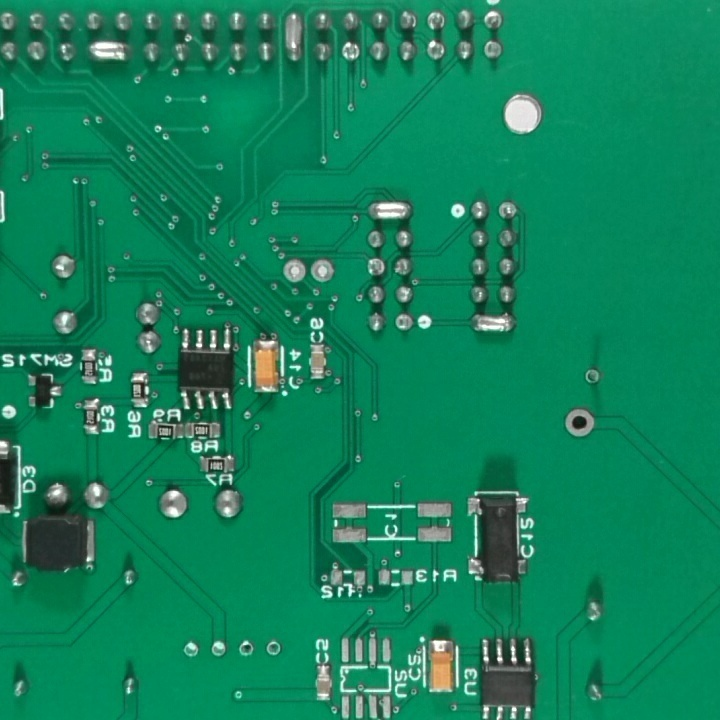F: (564, 406, 599, 440), (279, 255, 307, 286), (309, 258, 338, 286), (424, 9, 449, 34), (480, 9, 504, 34), (362, 255, 387, 278), (497, 198, 519, 223), (582, 367, 605, 390), (340, 40, 362, 63), (180, 638, 202, 660), (235, 638, 257, 660), (395, 312, 416, 334), (263, 638, 284, 660), (210, 638, 228, 663)
P: (469, 309, 519, 337), (283, 9, 307, 66), (364, 198, 416, 224), (84, 39, 134, 66)
